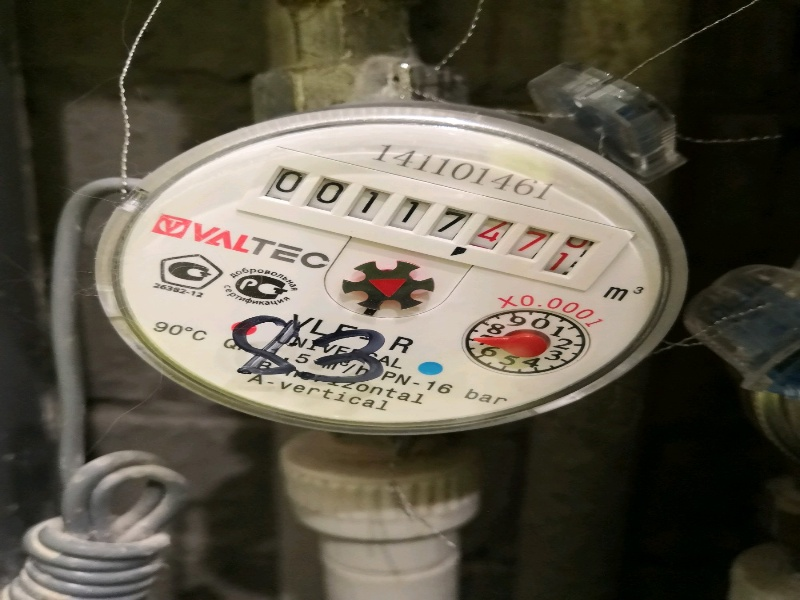meter: (258, 193, 620, 244)
